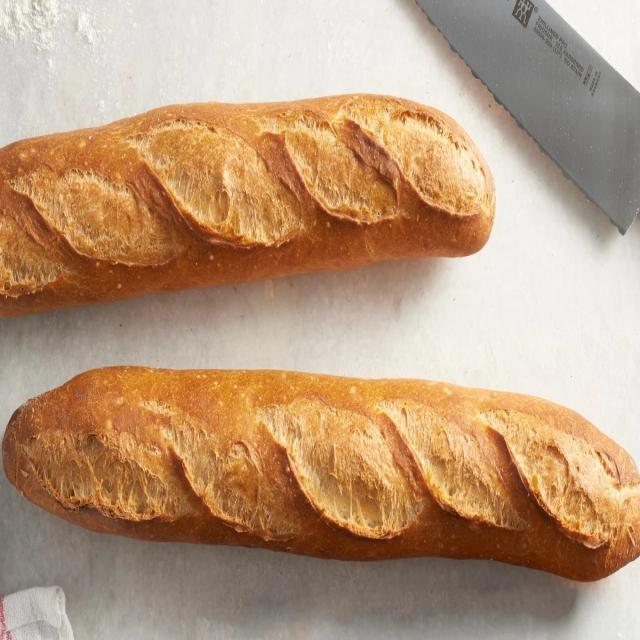Baguette: (2, 367, 640, 580), (0, 95, 495, 316)
